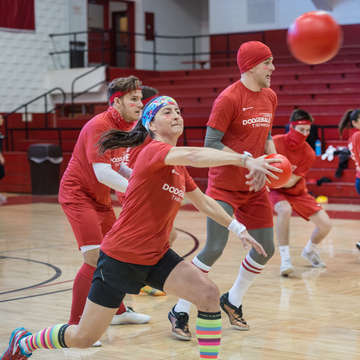red ball: (287, 9, 342, 66), (257, 153, 293, 190)
